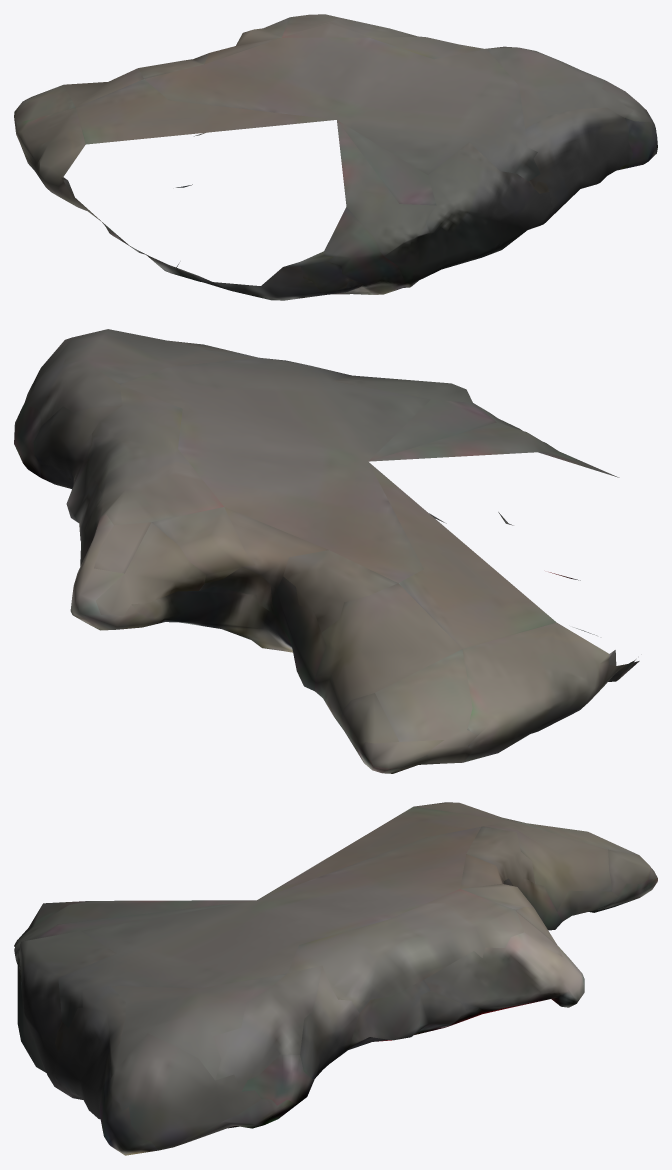
Rendered from hall.glb.
3 views of the same model, one above another, from view 1: azimuth 30°, elevation 25°; view 2: azimuth 150°, elevation 25°; view 3: azimuth 270°, elevation 25° (orthographic). The views are drawn at different scales.
Bounding box in the file's own units: 0.4408 × 0.1149 × 0.376.
Materials: 1 (1 with a texture image).
